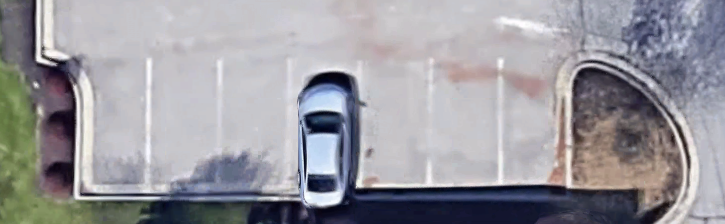Occupied: (288, 59, 359, 189)
Vacant: (147, 58, 219, 190), (219, 58, 288, 190), (359, 59, 429, 189), (430, 59, 500, 187), (86, 57, 147, 190), (501, 59, 562, 187)
